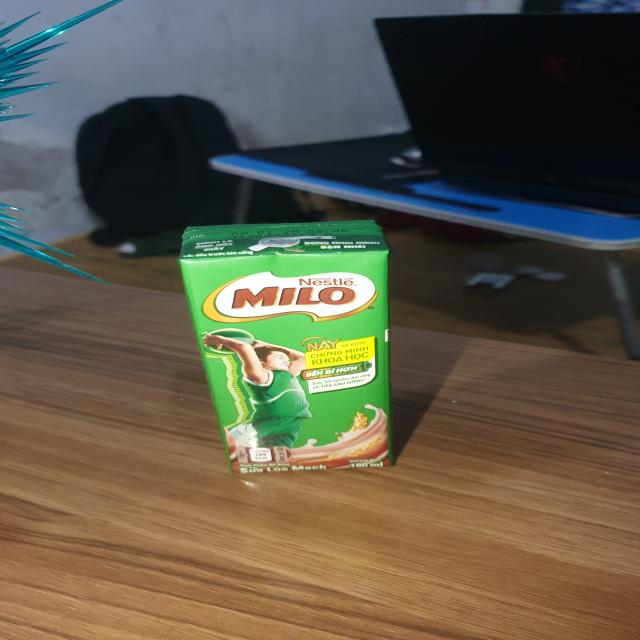Milo: (178, 218, 405, 480)
